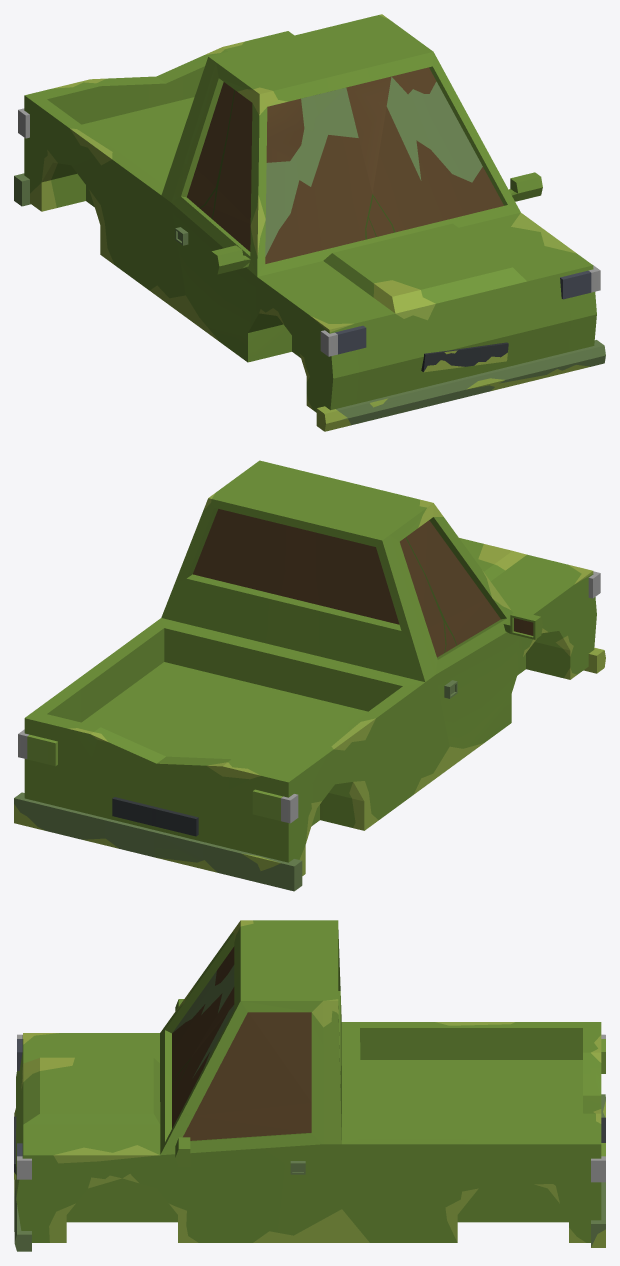
The model's file is OldCar_03.fbx.
3 renders of one model, top to bottom at view 1: azimuth 30°, elevation 25°; view 2: azimuth 150°, elevation 25°; view 3: azimuth 270°, elevation 25°, orthographic. The views are drawn at different scales.
Parts seen in each view (by area): view 1: OldCar_03; view 2: OldCar_03; view 3: OldCar_03.
Part boxes in pixels (x1,y1,x2,y2): OldCar_03: (14, 14, 605, 431); OldCar_03: (14, 460, 605, 891); OldCar_03: (14, 920, 605, 1251).
Bounding box in the file's own units: 1.96 × 1.38 × 3.28.
